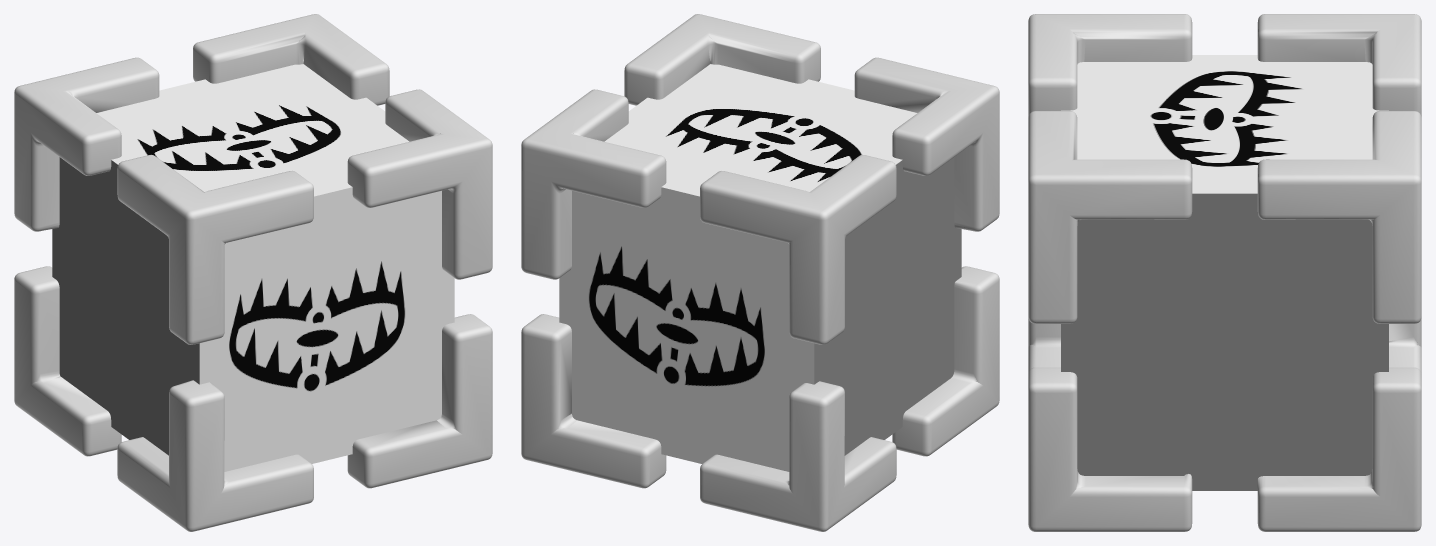
Rendered from TrapBox.FBX.
The picture shows the model from 3 angles, left to right: view 1: azimuth 30°, elevation 25°; view 2: azimuth 150°, elevation 25°; view 3: azimuth 270°, elevation 25°; orthographic projection. The views are drawn at different scales.
Parts seen in each view (by area): view 1: MainBox, Corner005, Corner008, Corner001, Corner011, Corner007, Corner006, Corner010; view 2: MainBox, Corner011, Corner006, Corner010, Corner005, Corner002, Corner008, Corner001; view 3: MainBox, Corner010, Corner001, Corner007, Corner002, Corner011, Corner005, Corner006, Corner008.
Part boxes in pixels (x1,y1,x2,y2): MainBox: (52,64,454,471); Corner005: (117,154,313,344); Corner008: (117,380,313,531); Corner001: (347,89,492,279); Corner011: (14,57,159,231); Corner007: (347,314,492,488); Corner006: (14,266,121,456); Corner010: (193,14,389,105); MainBox: (559,64,961,471); Corner011: (700,154,896,344); Corner006: (700,381,896,531); Corner010: (521,89,666,279); Corner005: (854,57,999,231); Corner002: (521,314,666,488); Corner008: (892,266,999,456); Corner001: (624,14,820,105); MainBox: (1061,55,1388,490); Corner010: (1257,111,1421,323); Corner001: (1028,111,1192,323); Corner007: (1028,367,1192,531); Corner002: (1257,367,1421,531); Corner011: (1257,14,1421,117); Corner005: (1028,14,1192,117); Corner006: (1389,317,1421,373); Corner008: (1028,317,1060,373).
Bounding box in the file's own units: 120 × 120 × 120.
Materials: 3 (1 with a texture image).
